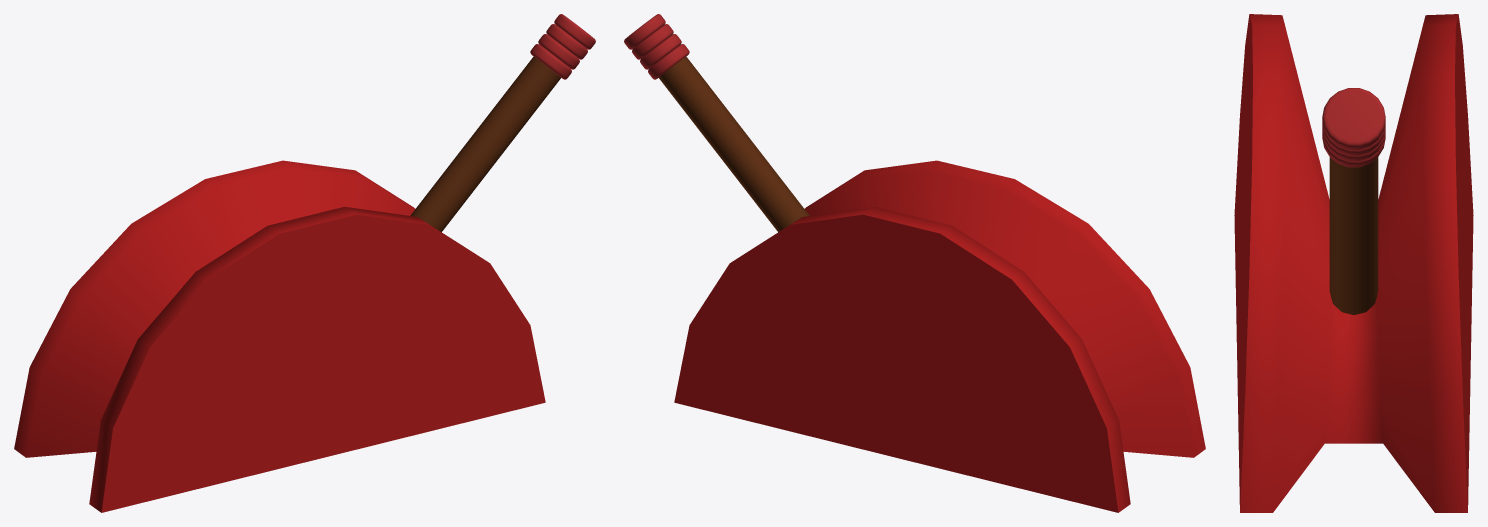
The model's file is Lever Variant.fbx.
3 renders of one model, left to right at view 1: azimuth 30°, elevation 25°; view 2: azimuth 150°, elevation 25°; view 3: azimuth 270°, elevation 25°, orthographic. The views are drawn at different scales.
Visible parts, largest first — view 1: Base, Handle; view 2: Base, Handle; view 3: Base, Handle, Cylinder006, Cylinder003, Cylinder005, Cylinder004.
Part boxes in pixels (left/top/right/bottom): Base: left=14, top=160, right=545, bottom=512; Handle: left=410, top=56, right=560, bottom=232; Base: left=674, top=160, right=1205, bottom=512; Handle: left=659, top=56, right=809, bottom=232; Base: left=1234, top=14, right=1473, bottom=512; Handle: left=1329, top=157, right=1378, bottom=314; Cylinder006: left=1322, top=88, right=1385, bottom=150; Cylinder003: left=1322, top=133, right=1385, bottom=167; Cylinder005: left=1322, top=122, right=1385, bottom=155; Cylinder004: left=1322, top=128, right=1385, bottom=161.
Bounding box in the file's own units: 151 × 91.85 × 42.77.
